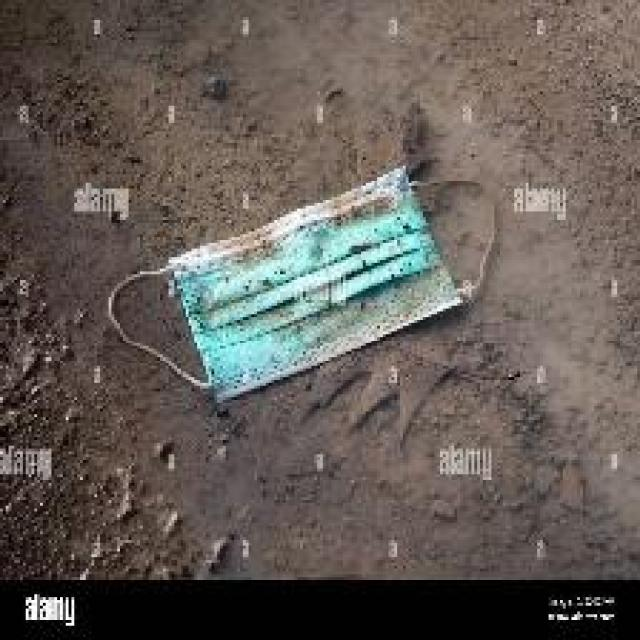Mask: (112, 162, 540, 430)
